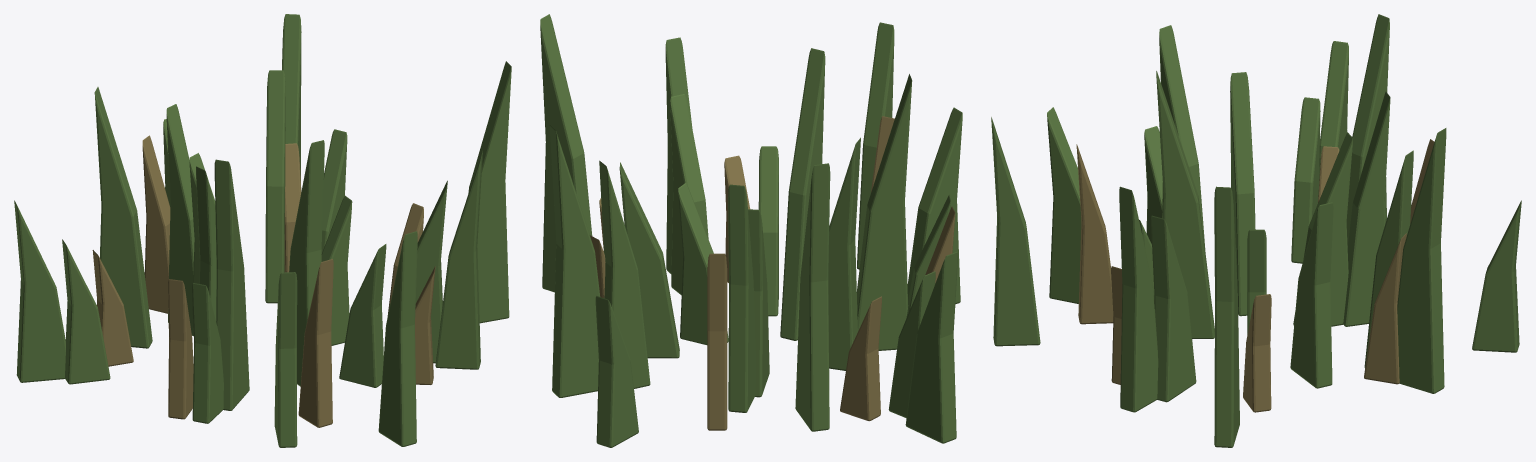
The model's file is GroundPlant_GrassTuft.fbx.
The picture shows the model from 3 angles, left to right: view 1: azimuth 30°, elevation 25°; view 2: azimuth 150°, elevation 25°; view 3: azimuth 270°, elevation 25°; orthographic projection. The views are drawn at different scales.
Visible parts, largest first — view 1: Grass tuft blade.067, Grass tuft blade.079, Grass tuft blade.071, Grass tuft blade.074, Grass tuft blade.078, Grass tuft blade.069, Grass tuft blade.075, Grass tuft blade.062, Grass tuft dry blade.026, Grass tuft blade.076, Grass tuft blade.068, Grass tuft blade.066 (+14 smaller); view 2: Grass tuft blade.063, Grass tuft blade.071, Grass tuft blade.067, Grass tuft blade.069, Grass tuft blade.075, Grass tuft blade.079, Grass tuft blade.066, Grass tuft blade.062, Grass tuft blade.070, Grass tuft blade.061, Grass tuft blade.064, Grass tuft blade.060 (+14 smaller); view 3: Grass tuft blade.063, Grass tuft blade.078, Grass tuft blade.075, Grass tuft blade.074, Grass tuft blade.079, Grass tuft blade.066, Grass tuft blade.061, Grass tuft blade.077, Grass tuft blade.073, Grass tuft blade.070, Grass tuft blade.064, Grass tuft dry blade.026 (+12 smaller).
Boxes of the visible parts, <box> form: Grass tuft blade.067: <box>94,87,152,348</box>; Grass tuft blade.079: <box>468,61,511,323</box>; Grass tuft blade.071: <box>214,159,249,410</box>; Grass tuft blade.074: <box>378,231,417,446</box>; Grass tuft blade.078: <box>435,150,482,369</box>; Grass tuft blade.069: <box>14,200,65,382</box>; Grass tuft blade.075: <box>289,140,324,386</box>; Grass tuft blade.062: <box>265,70,285,303</box>; Grass tuft dry blade.026: <box>298,259,333,427</box>; Grass tuft blade.076: <box>339,244,386,387</box>; Grass tuft blade.068: <box>62,239,110,384</box>; Grass tuft blade.066: <box>166,104,194,329</box>; Grass tuft blade.063: <box>549,125,600,397</box>; Grass tuft blade.071: <box>856,74,912,350</box>; Grass tuft blade.067: <box>795,163,830,431</box>; Grass tuft blade.069: <box>905,251,958,443</box>; Grass tuft blade.075: <box>780,48,825,340</box>; Grass tuft blade.079: <box>540,14,592,292</box>; Grass tuft blade.066: <box>728,184,755,412</box>; Grass tuft blade.062: <box>599,160,650,388</box>; Grass tuft blade.070: <box>828,137,860,370</box>; Grass tuft blade.061: <box>619,162,679,358</box>; Grass tuft blade.064: <box>595,296,638,447</box>; Grass tuft blade.060: <box>678,183,728,344</box>; Grass tuft blade.063: <box>1397,128,1446,393</box>; Grass tuft blade.078: <box>1119,186,1158,412</box>; Grass tuft blade.075: <box>1156,71,1214,338</box>; Grass tuft blade.074: <box>991,117,1040,346</box>; Grass tuft blade.079: <box>1214,186,1239,447</box>; Grass tuft blade.066: <box>1343,91,1390,326</box>; Grass tuft blade.061: <box>1290,202,1333,388</box>; Grass tuft blade.077: <box>1151,215,1196,402</box>; Grass tuft blade.073: <box>1047,107,1081,303</box>; Grass tuft blade.070: <box>1230,72,1255,316</box>; Grass tuft blade.064: <box>1472,200,1521,352</box>; Grass tuft dry blade.026: <box>1076,144,1113,324</box>.
Size of the model in its own units: 1.37 by 0.7466 by 1.37.
